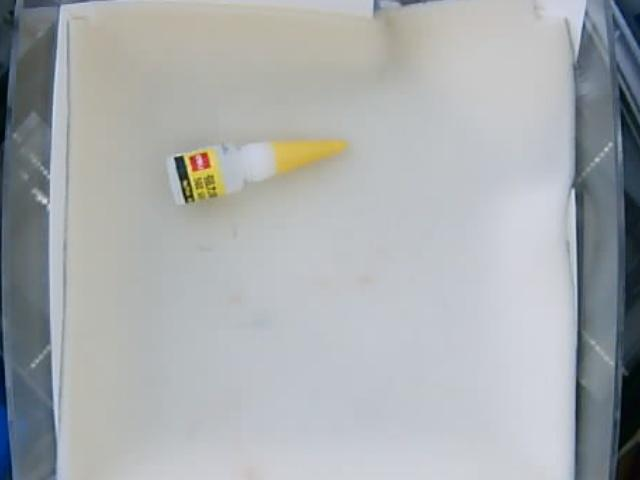Bottle: (167, 139, 346, 202)
